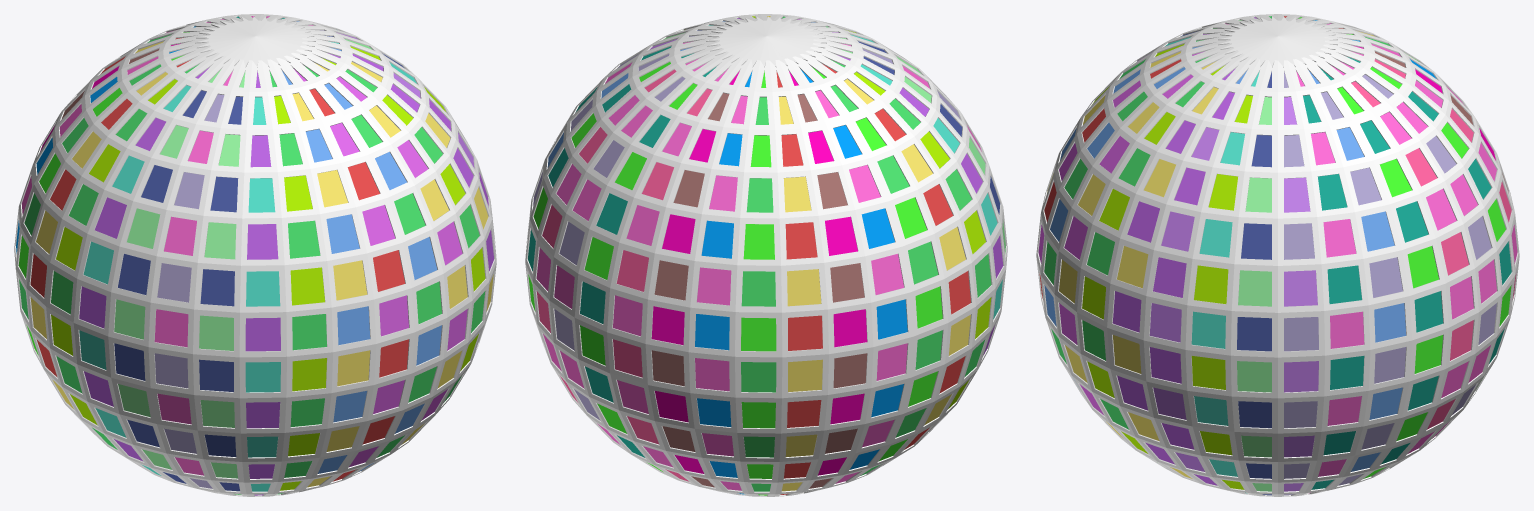
The model's file is disco_ball.FBX.
3 views of the same model, side by side, from view 1: azimuth 30°, elevation 25°; view 2: azimuth 150°, elevation 25°; view 3: azimuth 270°, elevation 25° (orthographic).
Visible parts, largest first — view 1: Sphere01; view 2: Sphere01; view 3: Sphere01.
Boxes of the visible parts, left/top/right/bottom form: Sphere01: left=14, top=14, right=496, bottom=496; Sphere01: left=525, top=14, right=1007, bottom=496; Sphere01: left=1036, top=14, right=1519, bottom=496.
Bounding box in the file's own units: 59.56 × 59.56 × 59.56.
